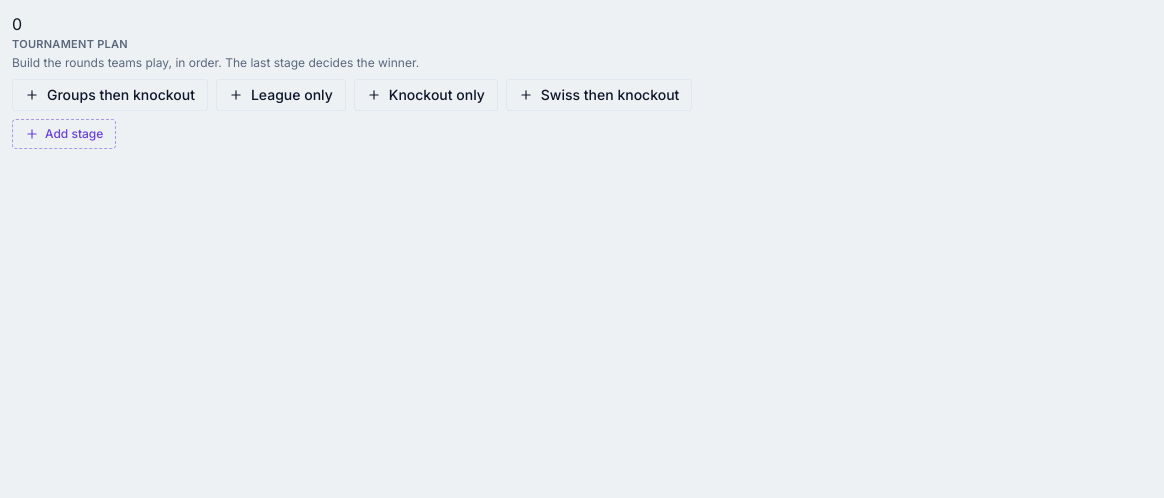
Test case: StagesEditor › adds a group stage then a knockout, with a qualification connector
The image size is (1164, 498).
Click the button with test id "st-add" at (64, 134), box [12,118,116,148]
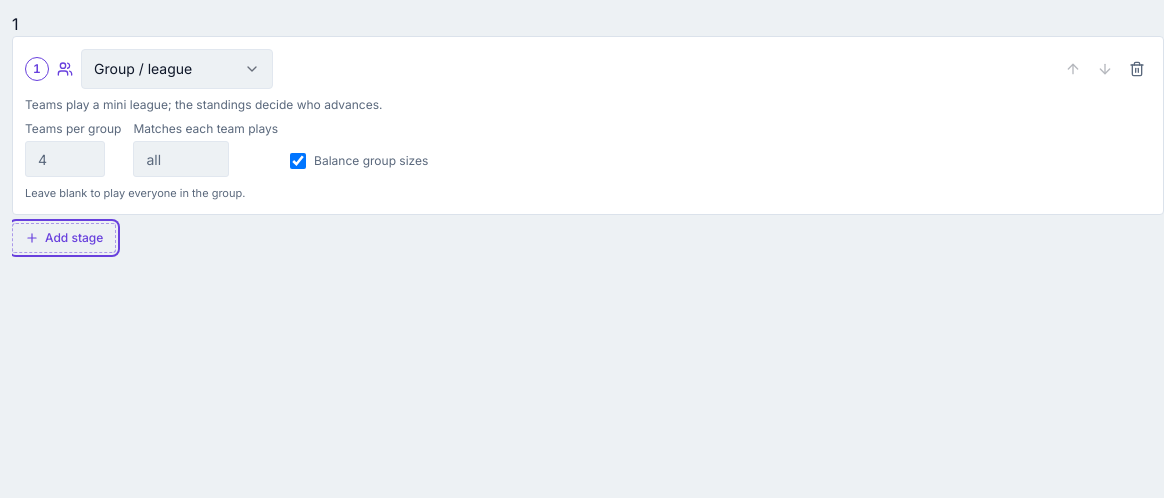
Expected: the text with test id "count" reads "1", [12,14,18,34]
Expected: the number field with test id "st-card-0-group-size" is shown, [25,141,105,177]
Click the button with test id "st-add" at (64, 238), box [12,222,116,252]
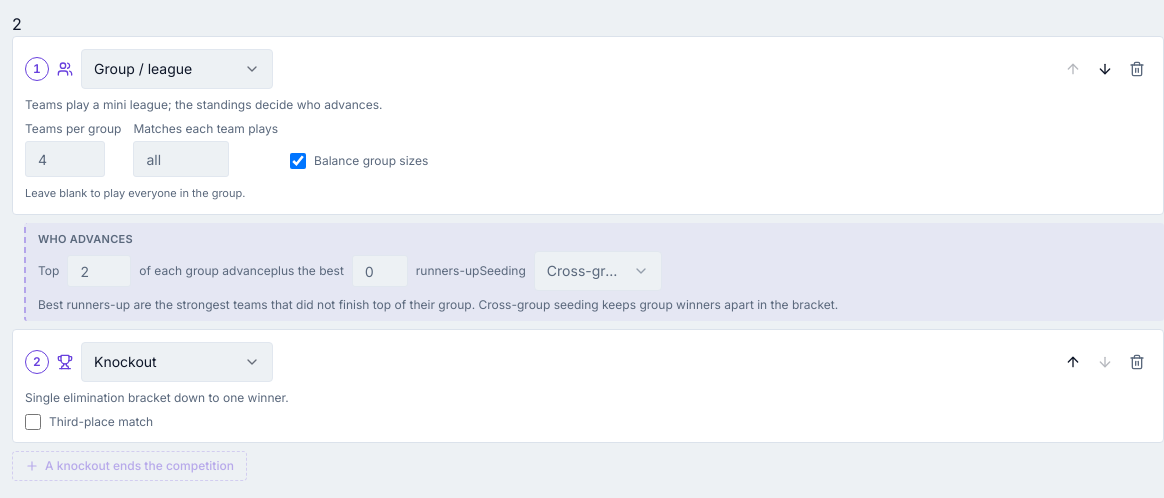
Expected: the text with test id "count" reads "2", [12,14,22,34]
Expected: the element with test id "st-connector-1" is shown, [24,222,1163,321]
Expected: the number field with test id "st-connector-1-advance" holds "2", [67,255,131,287]
